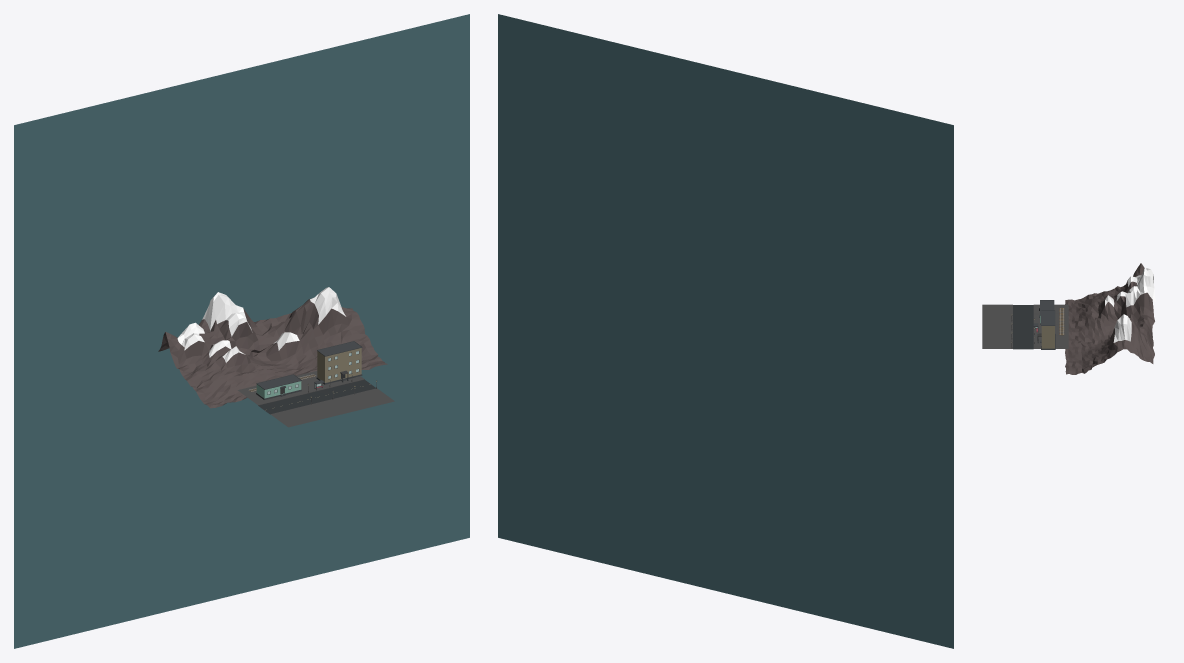
The model's file is CenaTrabalho.FBX.
3 views of the same model, side by side, from view 1: azimuth 30°, elevation 25°; view 2: azimuth 150°, elevation 25°; view 3: azimuth 270°, elevation 25° (orthographic). The views are drawn at different scales.
Visible parts, largest first — view 1: CenaTrabalho; view 2: CenaTrabalho; view 3: CenaTrabalho.
Part boxes in pixels (left/top/right/bottom): CenaTrabalho: left=14, top=14, right=469, bottom=648; CenaTrabalho: left=498, top=14, right=953, bottom=648; CenaTrabalho: left=982, top=263, right=1155, bottom=374.
Size of the model in its own units: 6240 by 6851 by 2613.
